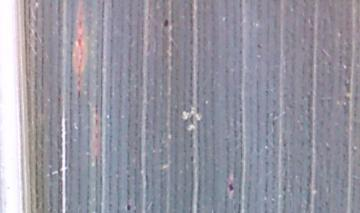tarspot: (160, 16, 171, 29), (226, 183, 235, 194), (125, 202, 133, 211), (191, 154, 197, 163), (257, 42, 263, 49)
